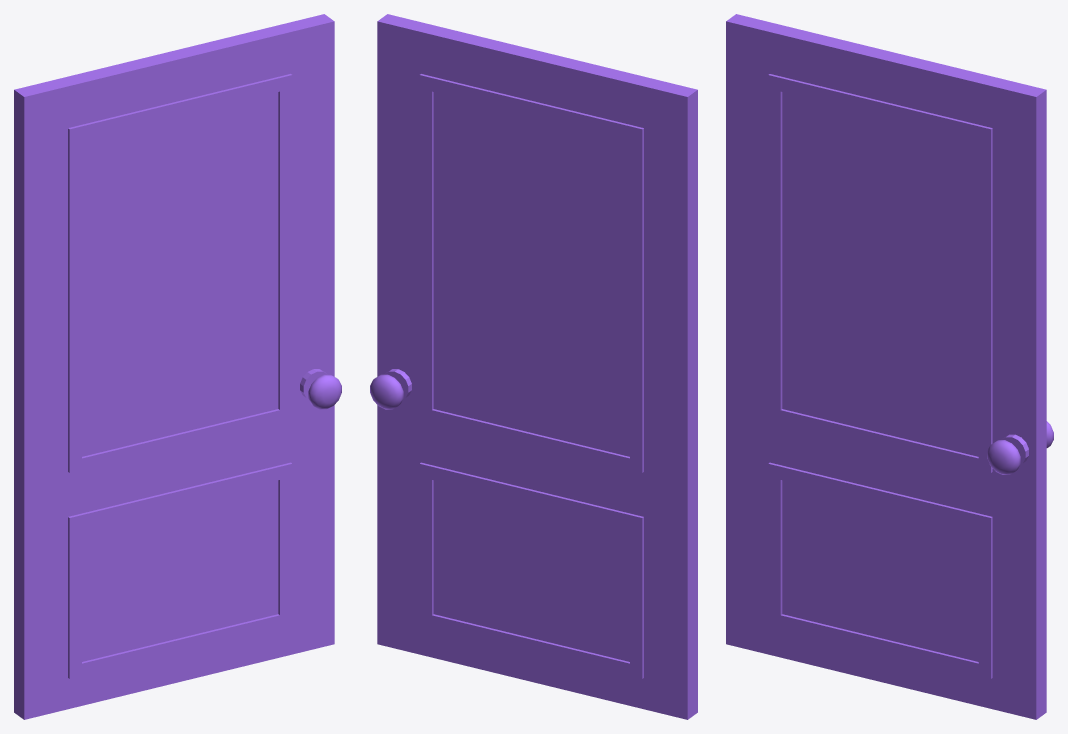
File: Door 1.fbx
3 views of the same model, side by side, from view 1: azimuth 30°, elevation 25°; view 2: azimuth 150°, elevation 25°; view 3: azimuth 330°, elevation 25° (orthographic).
Parts seen in each view (by area): view 1: Door003; view 2: Door003; view 3: Door003.
Boxes of the visible parts, <box> form: Door003: <box>14,14,341,719</box>; Door003: <box>370,14,697,719</box>; Door003: <box>726,14,1053,719</box>.
Bounding box in the file's own units: 111 × 212 × 26.72.
